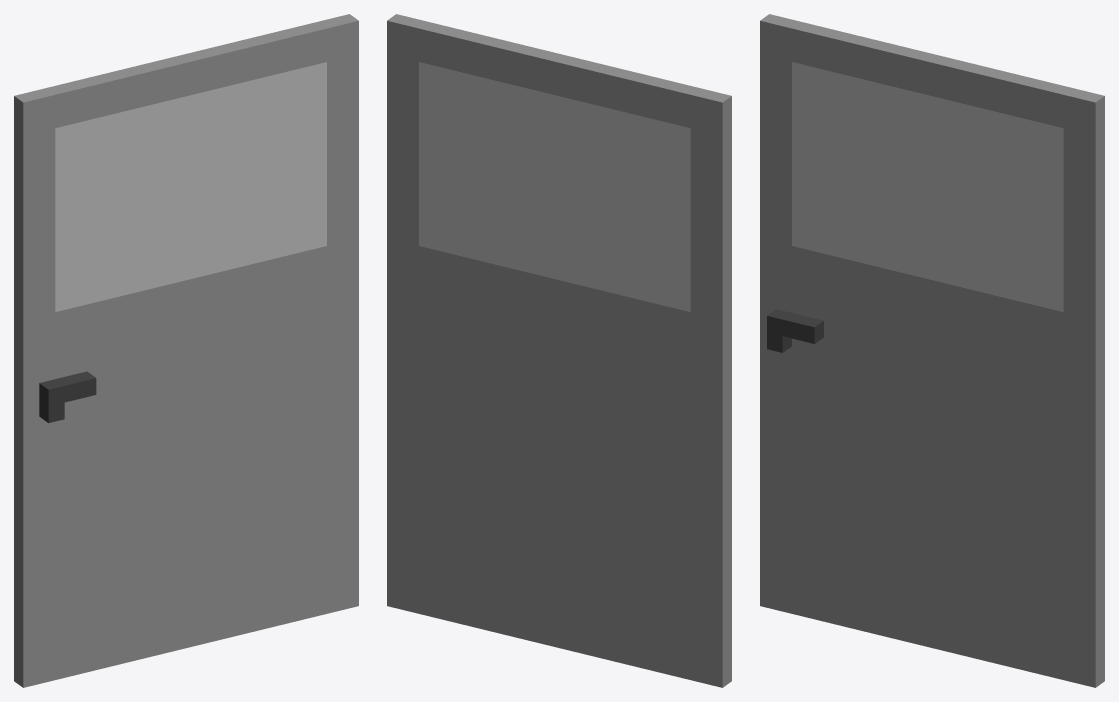
Rendered from ConstructionMaterials-4.gltf.
3 views of the same model, side by side, from view 1: azimuth 30°, elevation 25°; view 2: azimuth 150°, elevation 25°; view 3: azimuth 330°, elevation 25° (orthographic).
Parts seen in each view (by area): view 1: Node; view 2: Node; view 3: Node.
Part boxes in pixels (left/top/right/bottom): Node: left=14, top=14, right=358, bottom=687; Node: left=387, top=14, right=731, bottom=687; Node: left=760, top=14, right=1104, bottom=687.
Bounding box in the file's own units: 2.1 × 3.5 × 0.2.
1 material, 1 textured.
